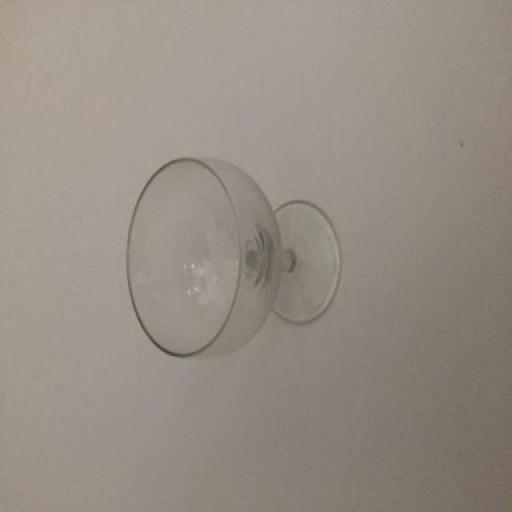glass: (114, 140, 352, 402)
